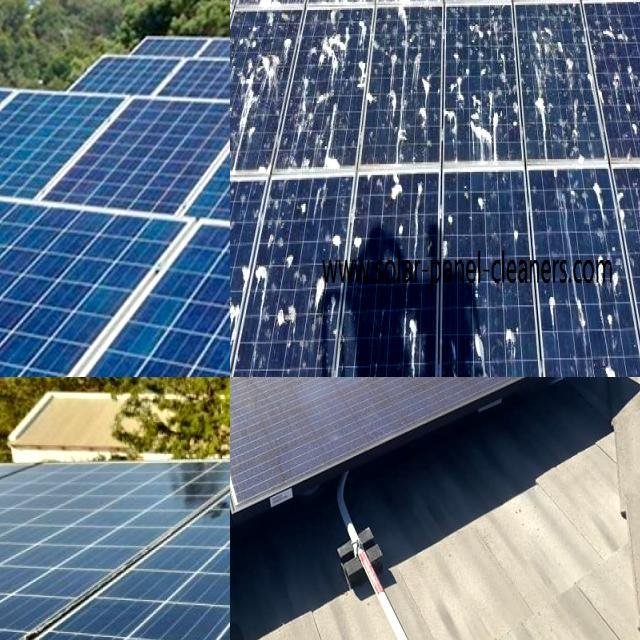bird: (530, 19, 570, 137), (250, 19, 298, 101), (460, 77, 508, 152), (316, 19, 355, 85), (384, 48, 412, 135), (320, 95, 354, 166), (588, 239, 627, 297), (310, 258, 338, 328), (521, 0, 560, 50), (398, 295, 420, 377), (455, 0, 499, 41), (230, 89, 253, 165), (270, 293, 303, 345), (230, 208, 252, 285), (575, 0, 620, 35), (392, 0, 430, 40), (503, 216, 532, 267), (230, 46, 246, 138), (417, 54, 435, 135), (497, 306, 519, 372), (232, 260, 274, 294), (471, 313, 492, 377), (472, 177, 497, 227), (615, 98, 640, 143), (578, 353, 623, 377), (442, 204, 472, 237), (352, 215, 374, 258), (291, 196, 316, 230), (383, 172, 406, 206), (602, 25, 632, 50), (230, 346, 252, 377), (230, 316, 245, 350)
crack: (0, 49, 230, 273), (0, 172, 230, 377), (60, 32, 230, 169), (0, 585, 223, 640), (129, 584, 230, 640), (0, 603, 59, 640)
dust: (230, 377, 467, 428), (230, 400, 279, 552), (281, 377, 368, 421), (230, 377, 284, 435), (411, 377, 480, 421)
